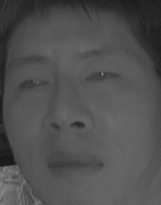eye: (81, 67, 122, 88), (14, 75, 50, 94)
mouth: (44, 145, 105, 181)
